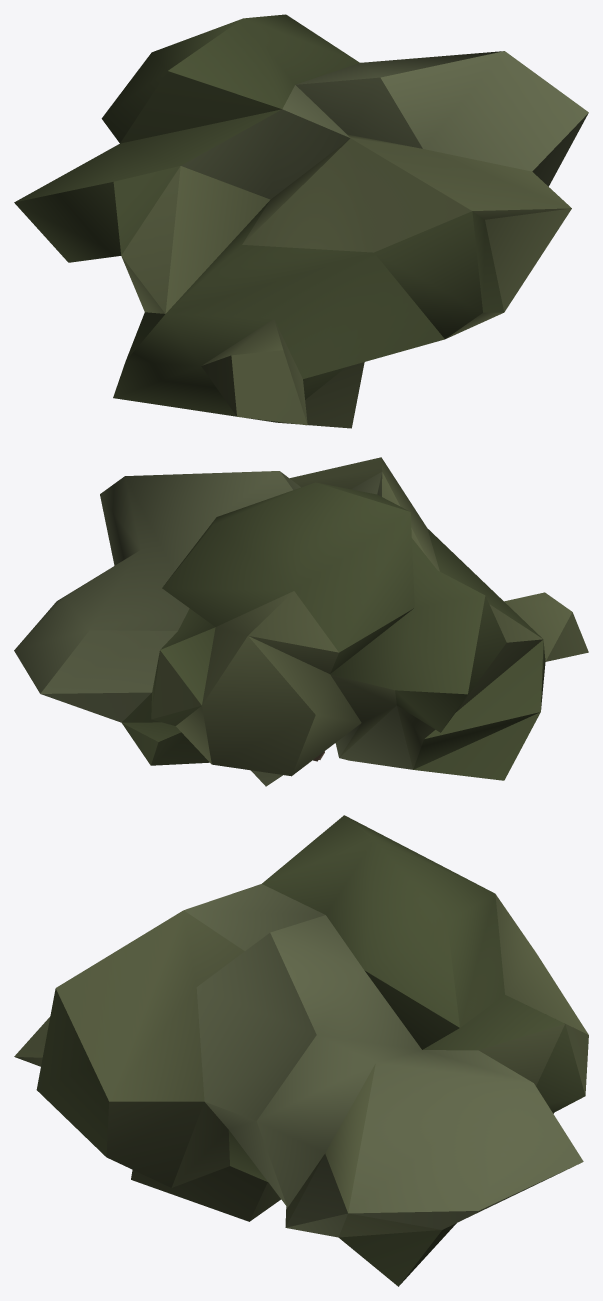
3 renders of one model, top to bottom at view 1: azimuth 30°, elevation 25°; view 2: azimuth 150°, elevation 25°; view 3: azimuth 270°, elevation 25°, orthographic. The views are drawn at different scales.
Visible parts, largest first — view 1: Кустарник; view 2: Кустарник; view 3: Кустарник.
Boxes of the visible parts, <box> form: Кустарник: <box>14,14,588,428</box>; Кустарник: <box>14,457,588,786</box>; Кустарник: <box>14,815,588,1286</box>.
Size of the model in its own units: 6.3 by 4.26 by 6.03.
